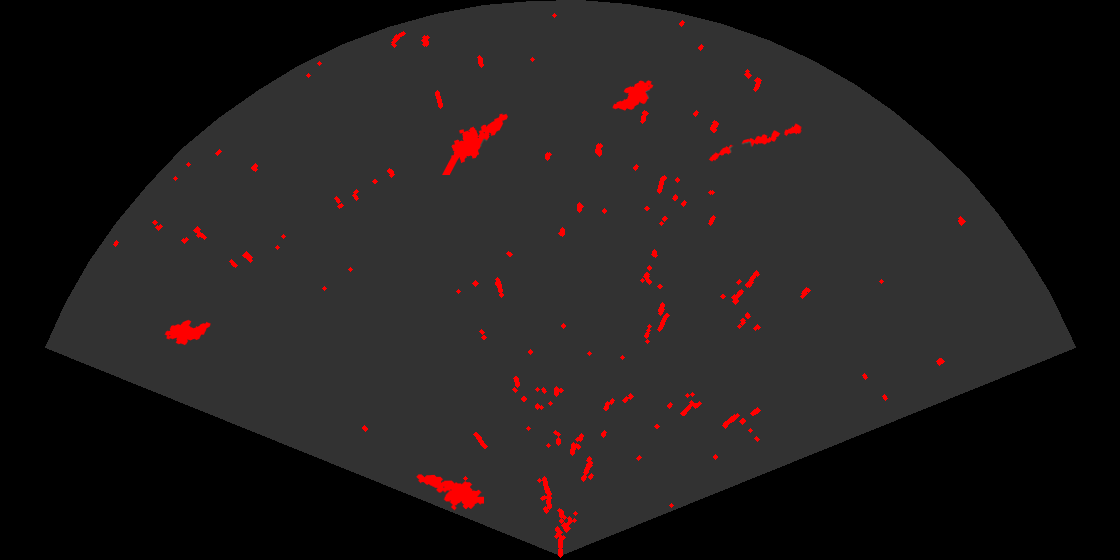AUV: (611, 79, 655, 112), (163, 318, 212, 347)
chain: (707, 122, 804, 163)
frogman: (441, 112, 510, 175), (415, 473, 484, 512)
